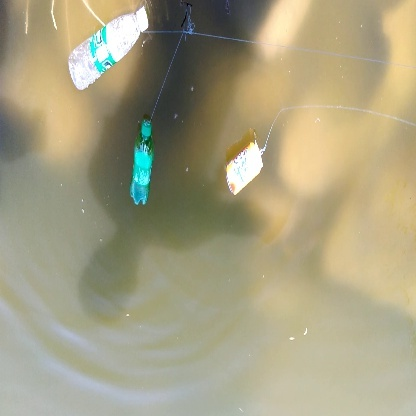bottle: (66, 2, 153, 94), (216, 135, 271, 202), (126, 115, 159, 208)
